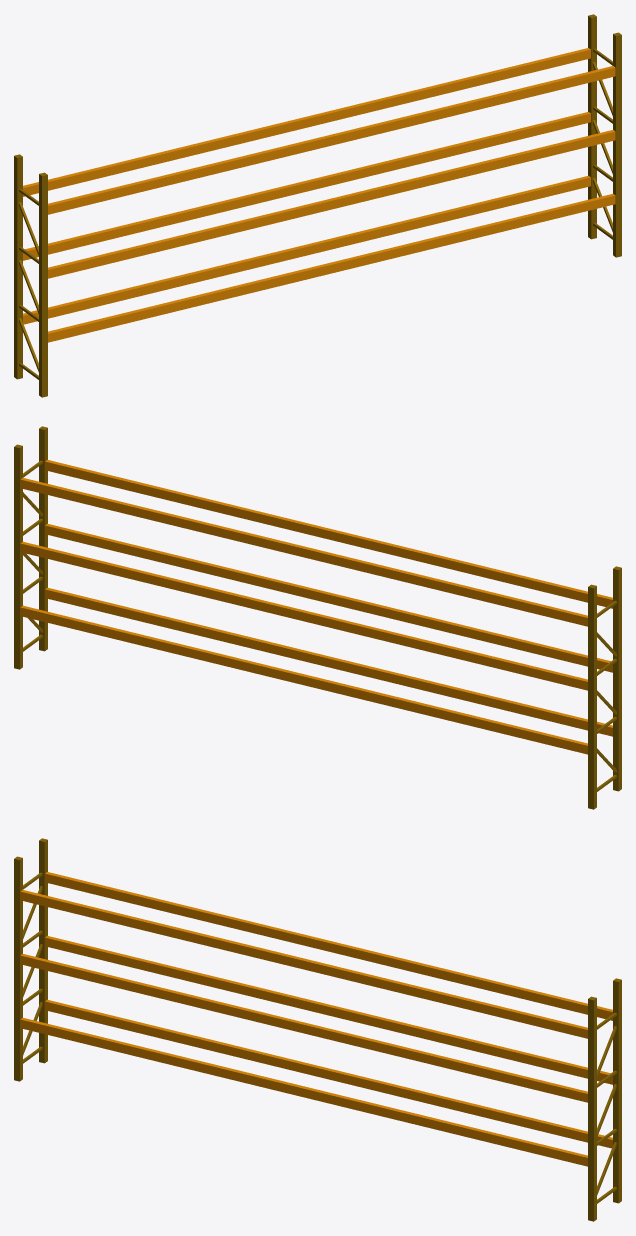
File: SM_ShelfC_01.fbx
3 views of the same model, one above another, from view 1: azimuth 30°, elevation 25°; view 2: azimuth 150°, elevation 25°; view 3: azimuth 330°, elevation 25° (orthographic).
Parts seen in each view (by area): view 1: SM_Shelf_C_01; view 2: SM_Shelf_C_01; view 3: SM_Shelf_C_01.
Boxes of the visible parts, box(x1,y1,x2,y2) form: SM_Shelf_C_01: box(14, 14, 621, 397); SM_Shelf_C_01: box(14, 426, 621, 809); SM_Shelf_C_01: box(14, 838, 621, 1221).
Bounding box in the file's own units: 1515 × 553 × 127.
